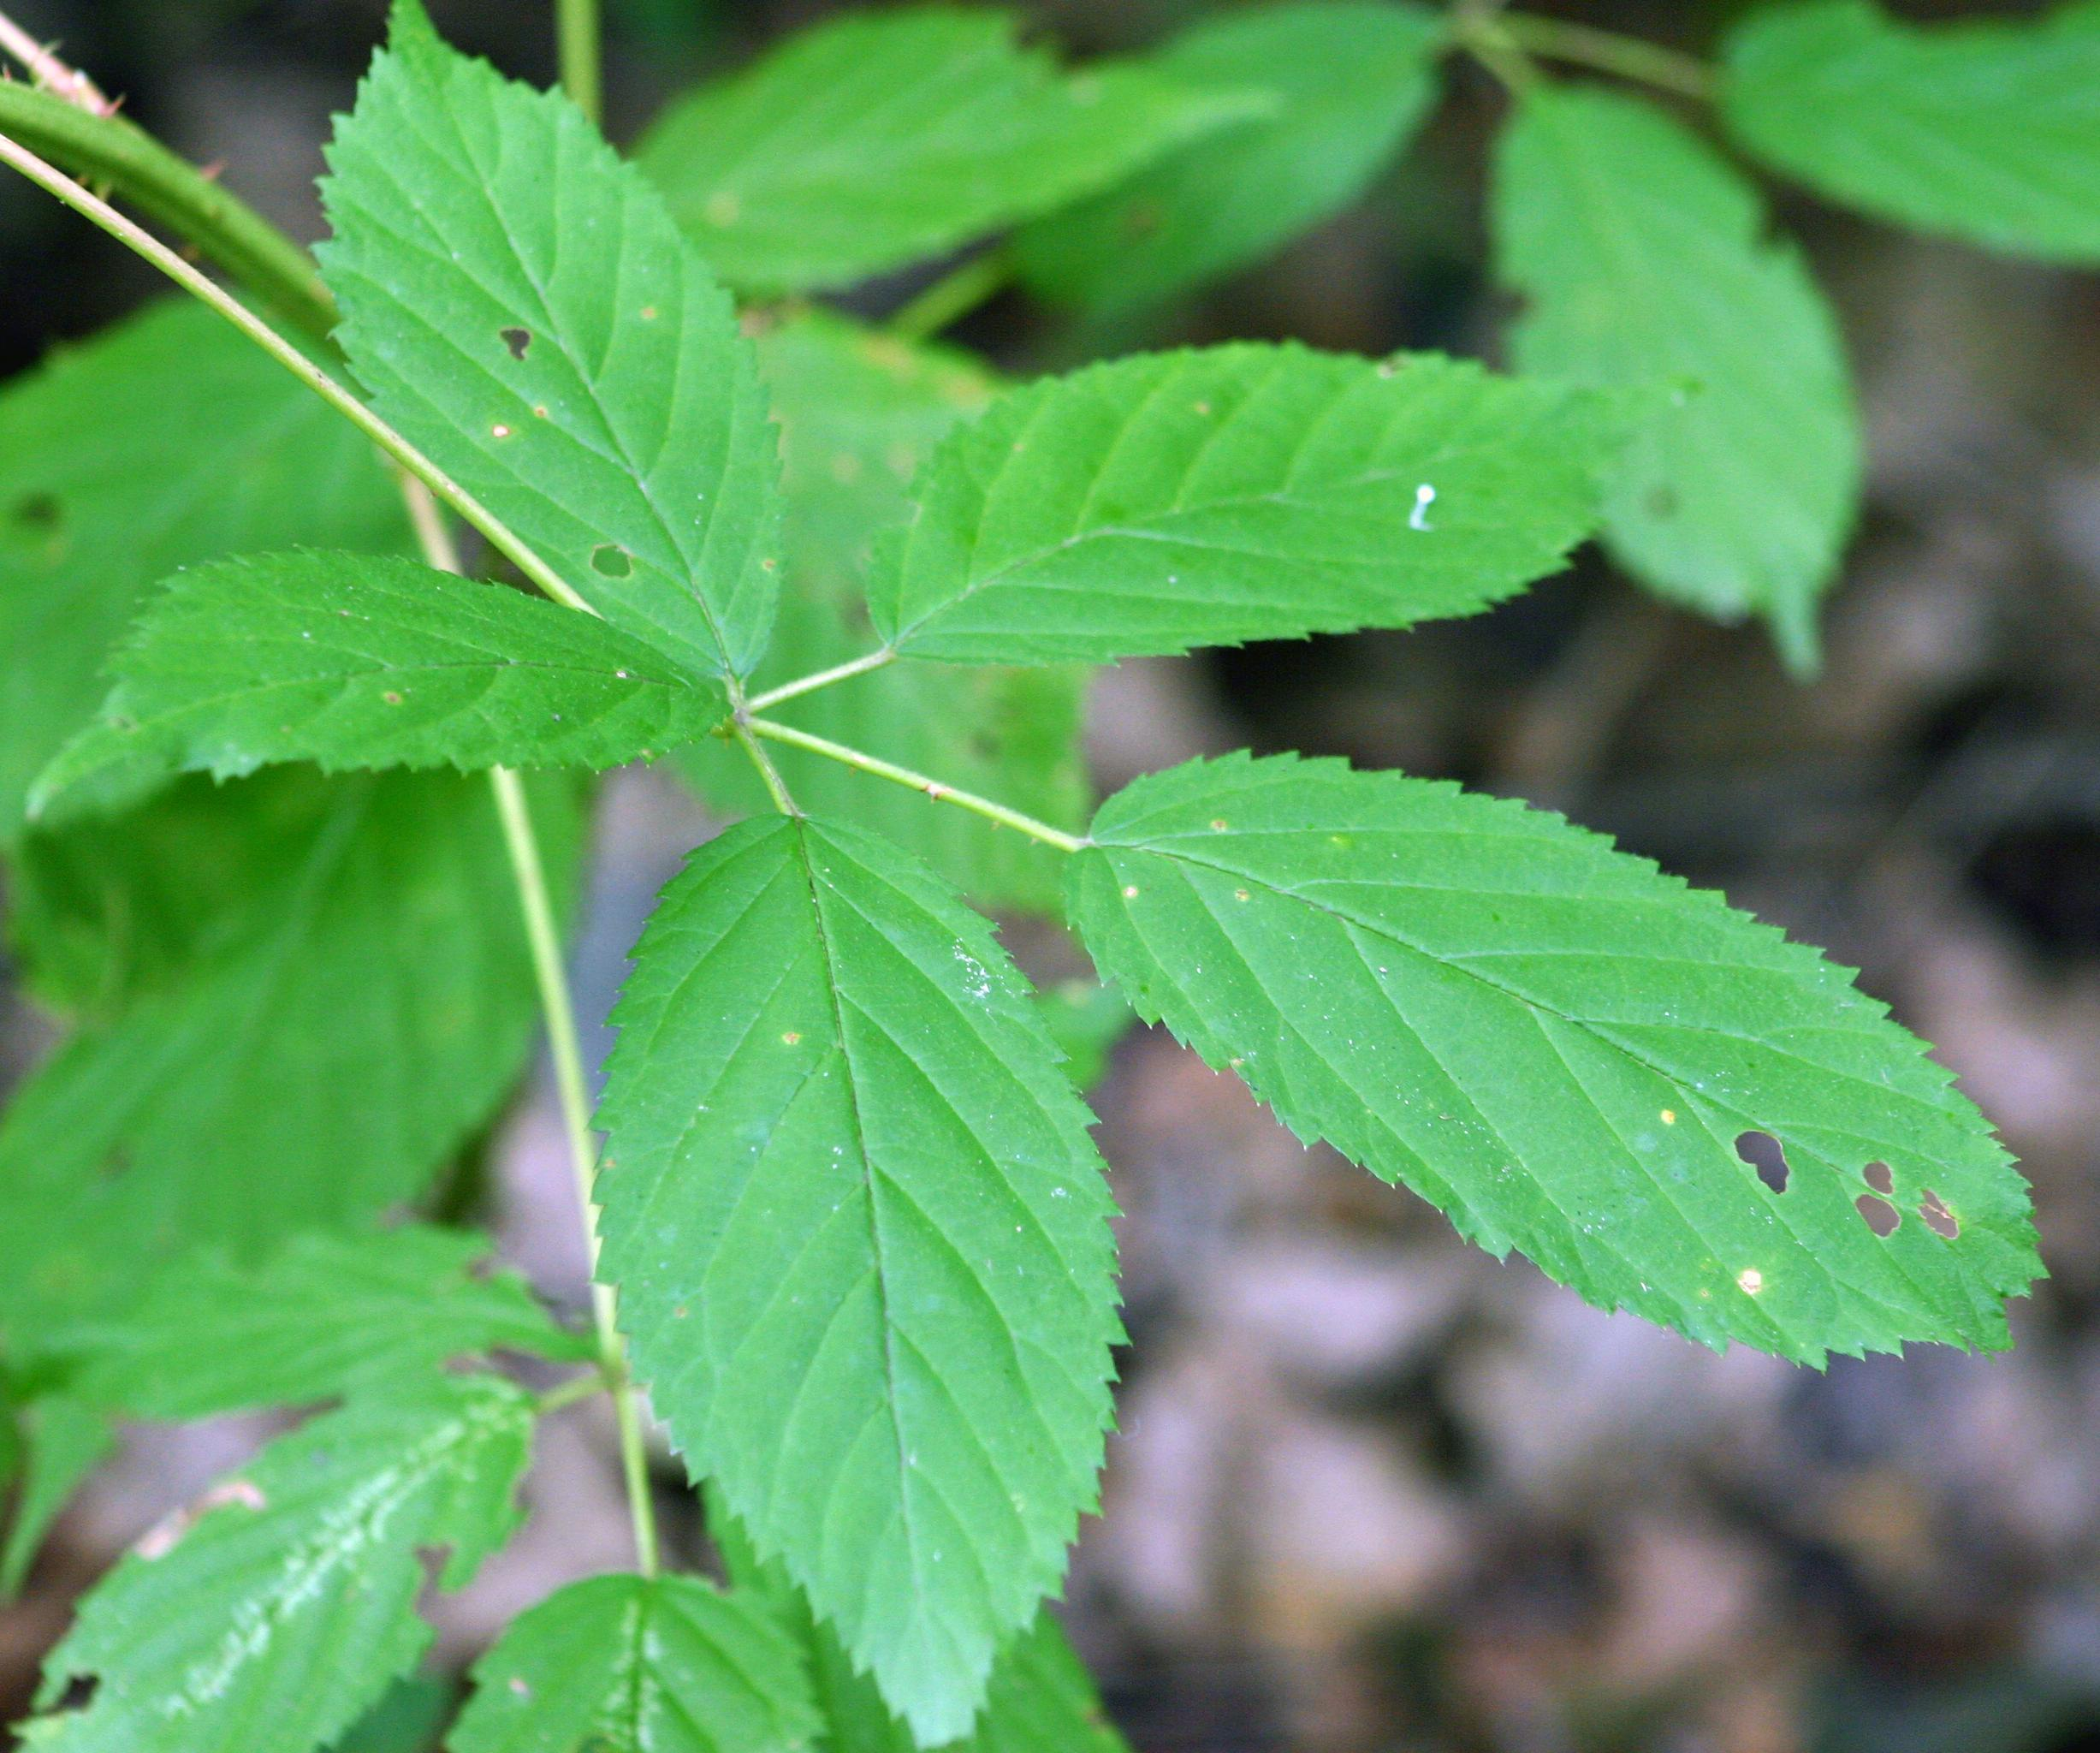Raspberry leaf: (1074, 731, 2058, 1394), (579, 802, 1142, 1753), (314, 0, 801, 692), (883, 338, 1687, 679), (2, 542, 689, 853)
